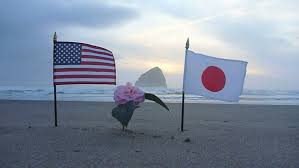Japanese Flag: (179, 49, 252, 103)
